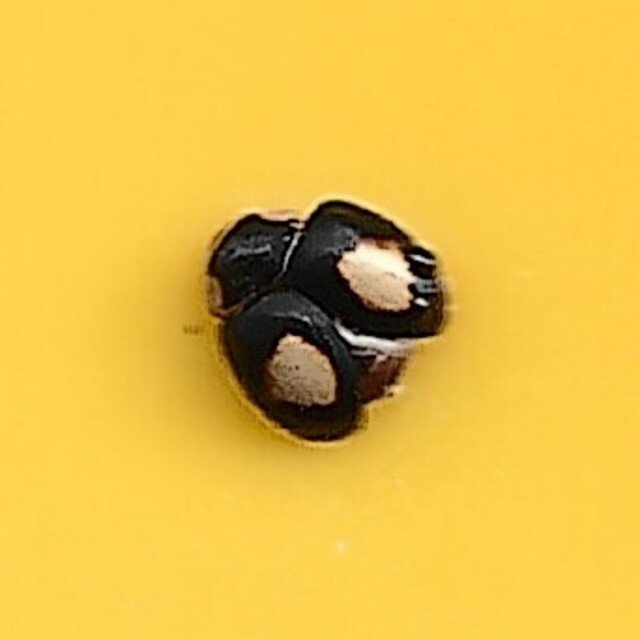Coleoptera: (187, 189, 453, 451)
